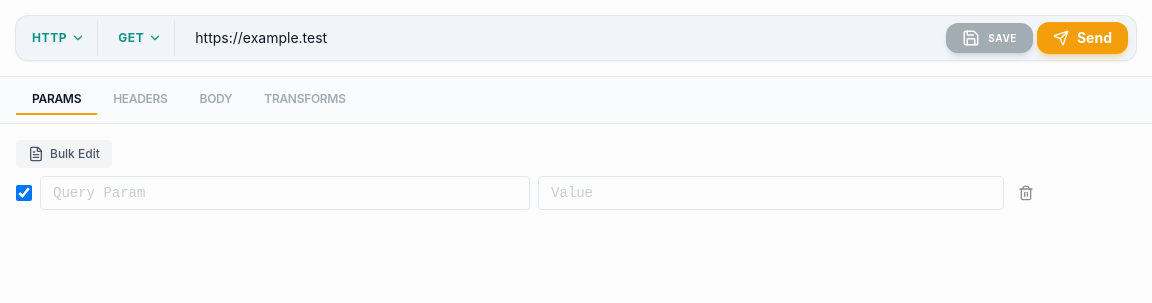
Scenario: RequestEditor body section › switches between body modes
Check: the button "GET" is shown, box [106,30,174,46]
Click the button "body". click: x=216, y=100
box: [184,85,248,115]
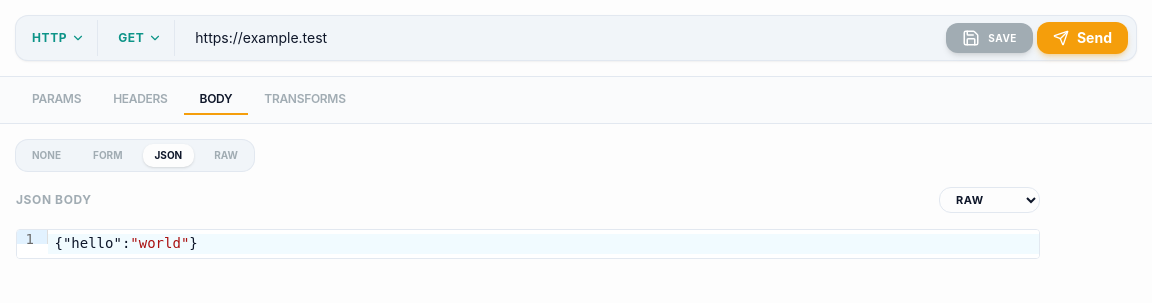
Check: the text "JSON Body" is shown, box [16,192,92,208]
Click the button "form". click: x=108, y=156
box: [81,144,134,167]
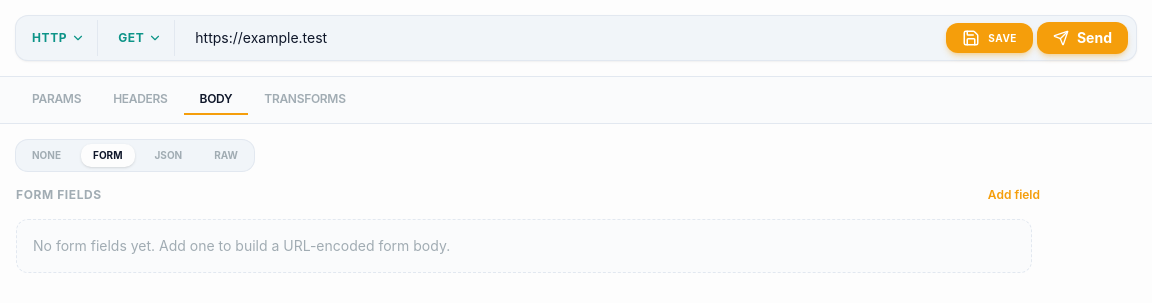
Check: the text "No form fields yet" is shown, box [33,237,450,254]
Click the button "none". click: x=46, y=156
box: [20,144,73,167]
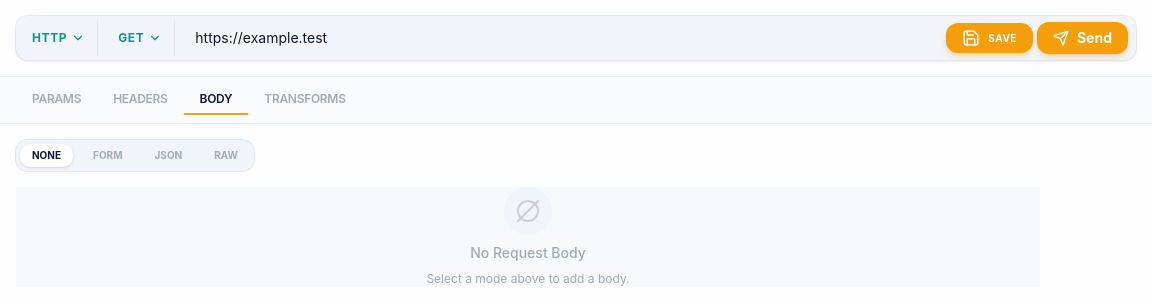
Check: the text "No Request Body" is shown, box [470,243,586,263]
